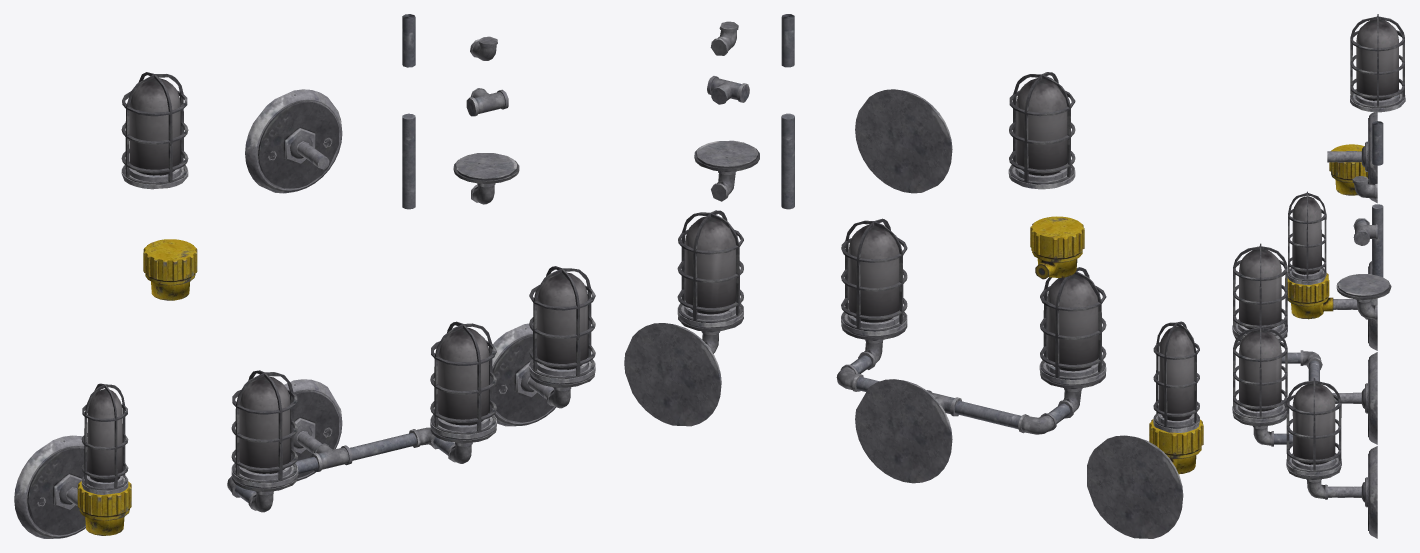
File: industrial_caged_sconce.glb
3 views of the same model, side by side, from view 1: azimuth 30°, elevation 25°; view 2: azimuth 150°, elevation 25°; view 3: azimuth 270°, elevation 25° (orthographic). The views are drawn at different scales.
Visible parts, largest first — view 1: industrial_caged_sconce_b; view 2: industrial_caged_sconce_b; view 3: industrial_caged_sconce_b.
Boxes of the visible parts, box(x1,y1,x2,y2) form: industrial_caged_sconce_b: box(14, 14, 595, 538); industrial_caged_sconce_b: box(624, 14, 1203, 538); industrial_caged_sconce_b: box(1232, 14, 1405, 538).
Size of the model in its own units: 1.21 by 0.9128 by 0.3895.
1 material, 1 textured.
